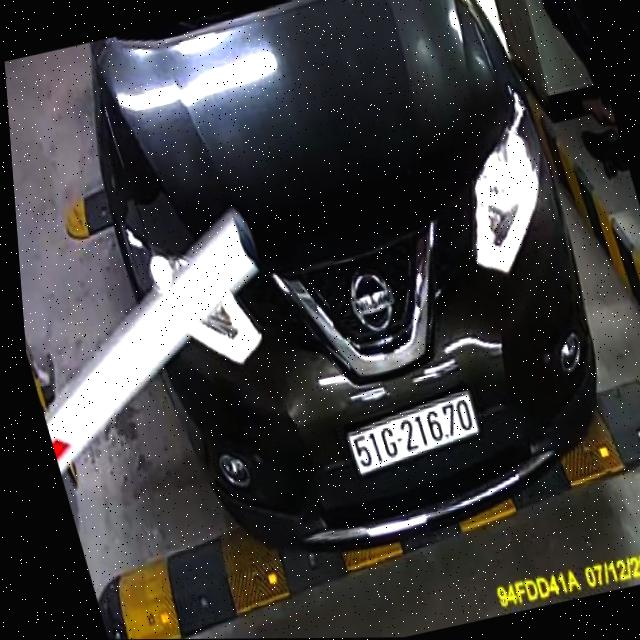car: (47, 0, 640, 596)
plate: (335, 389, 488, 479)
